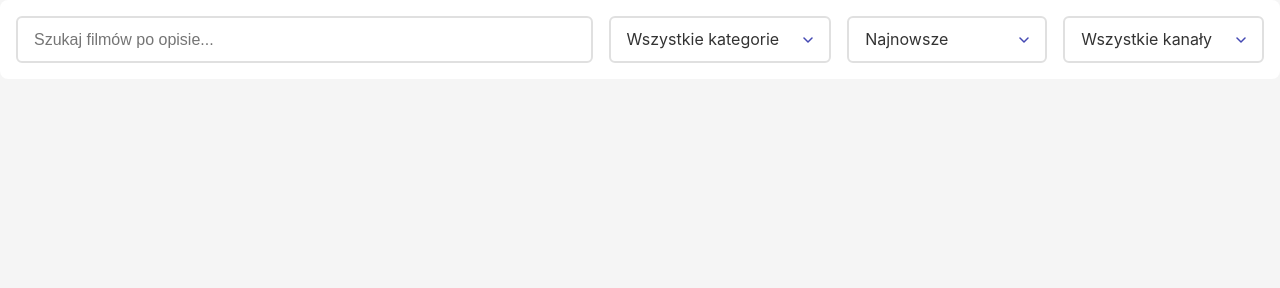
Test: SearchBar › channel and date filters › groups the channel options by category, without a header for the rest
The width and height of the screenshot is (1280, 288).
Click the dropdown labelled "kanał".
click(1164, 40)  # box 1063,16 -> 1264,63
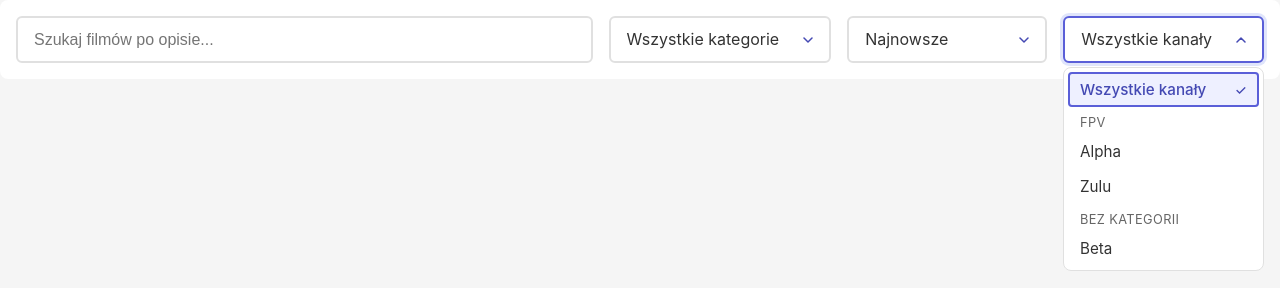
Check: the element "fpv" shows "Alpha", box 1080,142 -> 1121,161
Check: the element "fpv" shows "Zulu", box 1080,177 -> 1111,196
Check: the element "Bez kategorii" shows "Beta", box 1080,239 -> 1112,258
